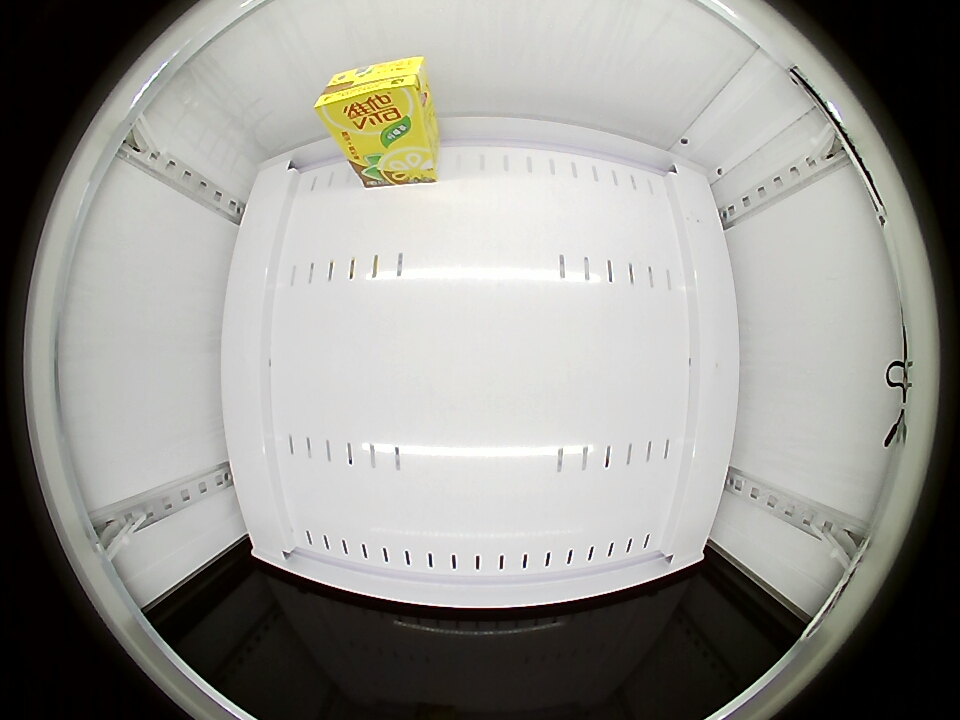weitaningmeng: (314, 56, 431, 136)
